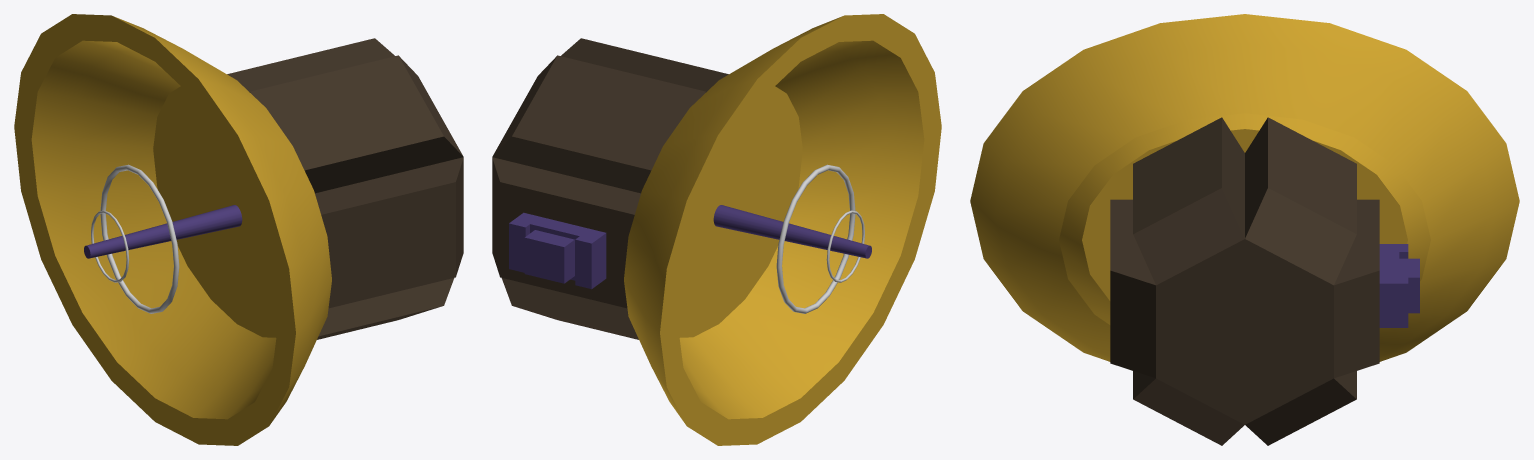
Rendered from jieshouqi.fbx.
3 views of the same model, side by side, from view 1: azimuth 30°, elevation 25°; view 2: azimuth 150°, elevation 25°; view 3: azimuth 270°, elevation 25° (orthographic). The views are drawn at different scales.
Visible parts, largest first — view 1: _pCylinder3_polySurface29_1; view 2: _pCylinder3_polySurface29_1; view 3: _pCylinder3_polySurface29_1.
Part boxes in pixels (box(x1,y1,x2,y2)): _pCylinder3_polySurface29_1: box(14, 14, 463, 445); _pCylinder3_polySurface29_1: box(492, 14, 941, 445); _pCylinder3_polySurface29_1: box(970, 14, 1519, 445).
Bounding box in the file's own units: 3.63 × 4.03 × 5.36.
